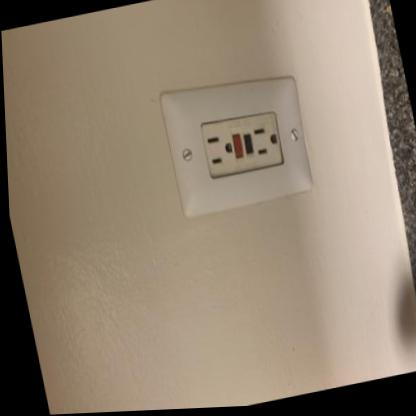OUTLET: (156, 66, 315, 216)
